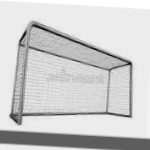goals: (8, 19, 135, 127)
